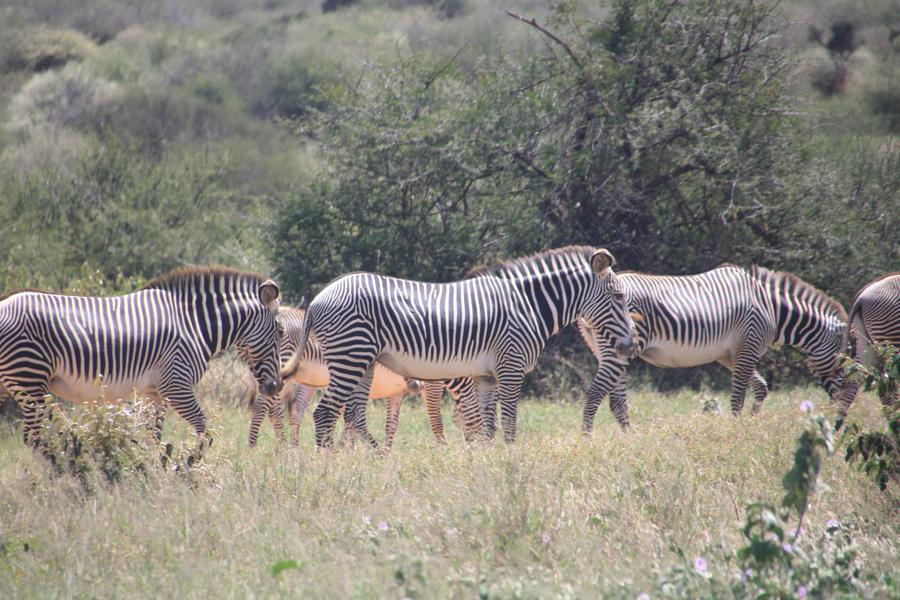zebra_grevys: (300, 267, 537, 374)
